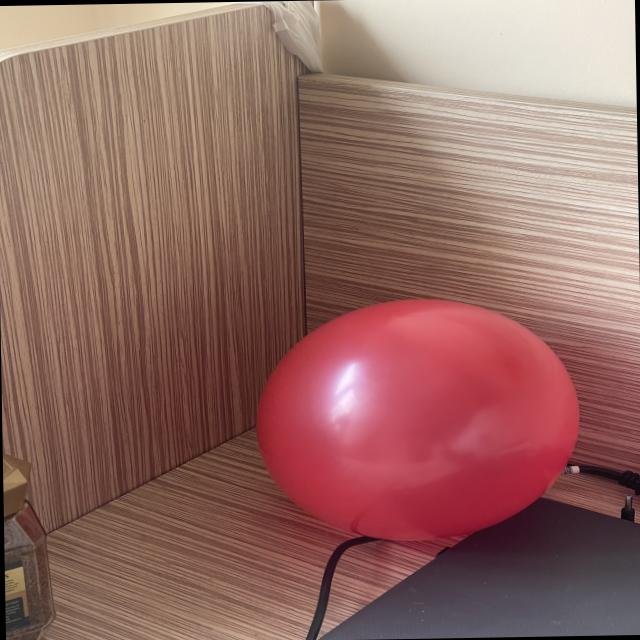balloon: (256, 299, 579, 540)
